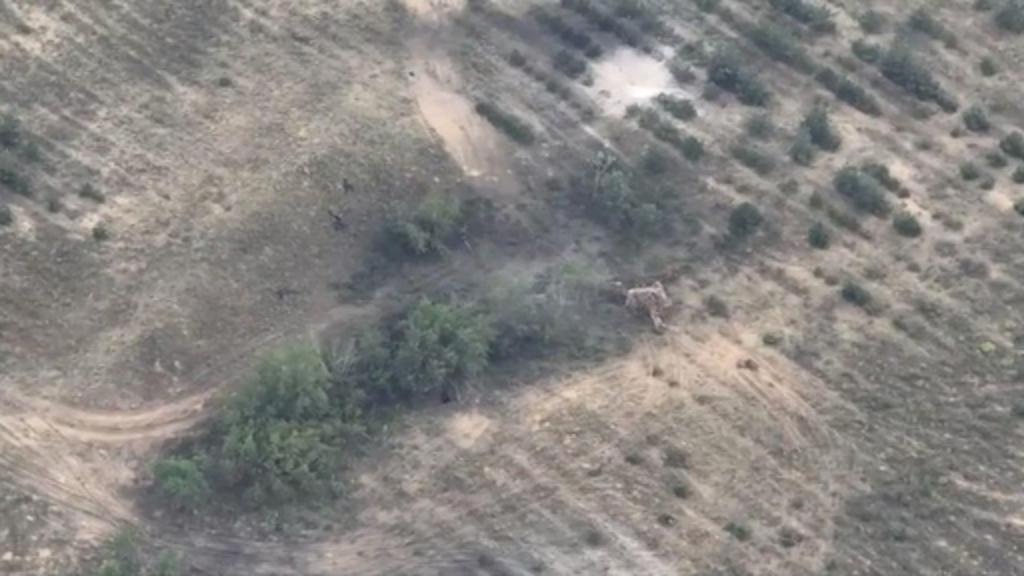ART: (614, 278, 682, 336)
